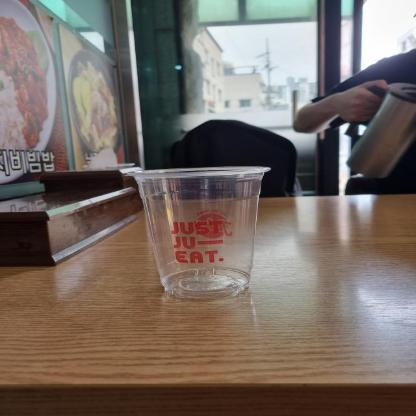Plastic Cup: (116, 164, 278, 302)
